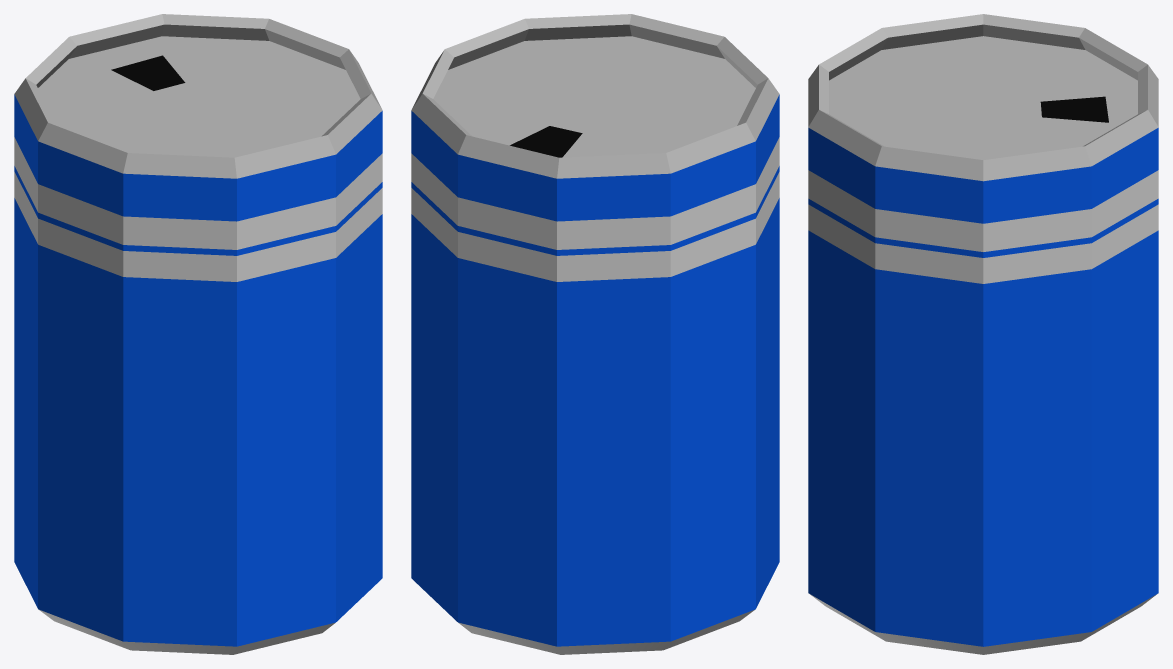
Rendered from can.fbx.
3 renders of one model, left to right at view 1: azimuth 30°, elevation 25°; view 2: azimuth 150°, elevation 25°; view 3: azimuth 270°, elevation 25°, orthographic.
Visible parts, largest first — view 1: pCylinder1; view 2: pCylinder1; view 3: pCylinder1.
Boxes of the visible parts, <box> form: pCylinder1: <box>14,14,382,654</box>; pCylinder1: <box>411,14,779,654</box>; pCylinder1: <box>808,14,1158,654</box>.
Size of the model in its own units: 2.59 by 3.86 by 2.46.
